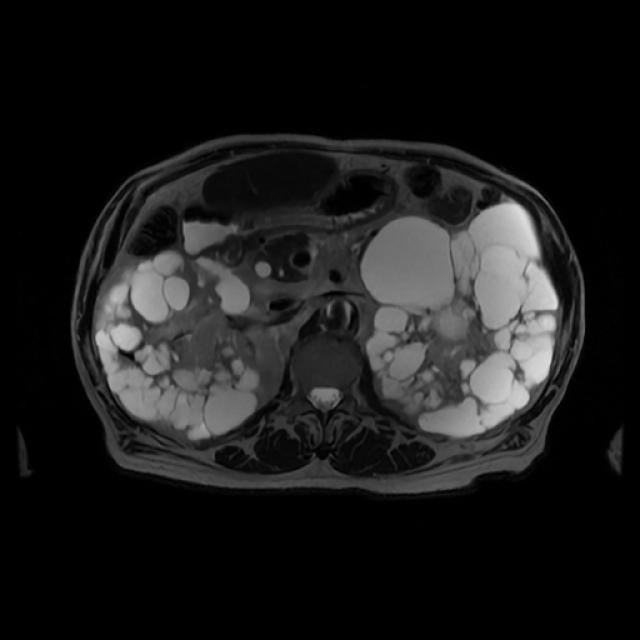sag: (94, 249, 260, 441)
sol: (358, 201, 561, 436)
